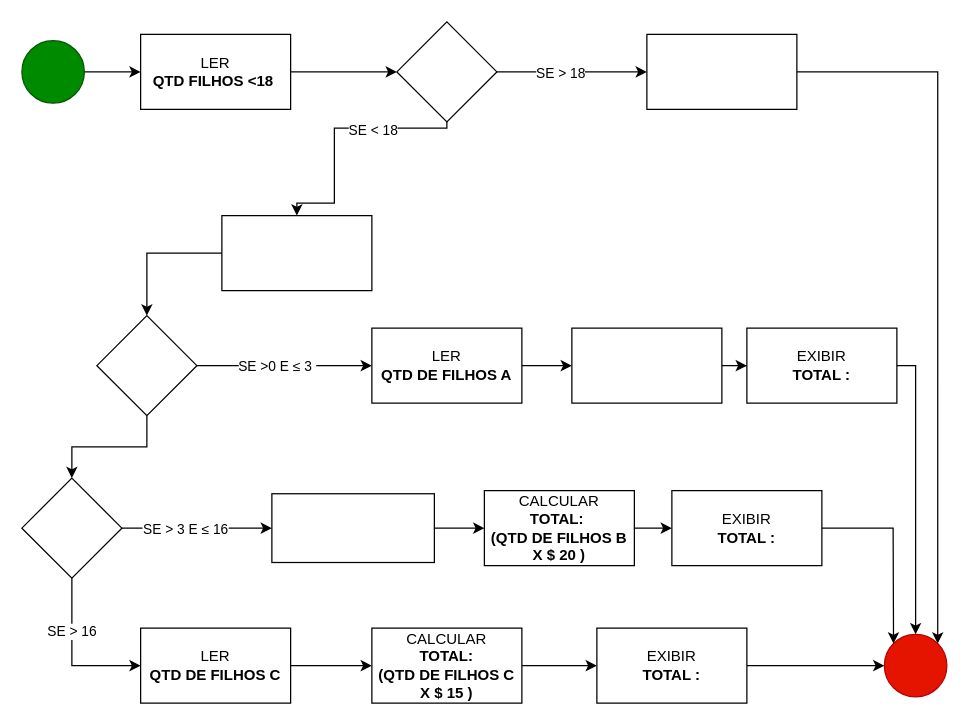
The diagram is 970 pixels wide and 725 high, and some of its shapes have lost their labels. Here are the shapes that lost their labels. From the top down, the centre of each, then its label:
point 721,71: EXIBIR "Sem bolsa"
point 296,252: LER NOME E IDADE
point 646,365: CALCULAR TOTAL: (QTD DE FILHOS A X $ 25 )
point 352,527: LER QTD DE FILHOS B
